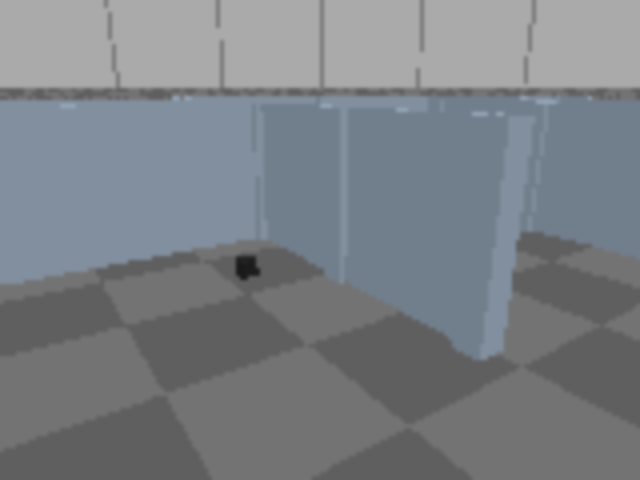puck: (234, 255, 258, 279)
